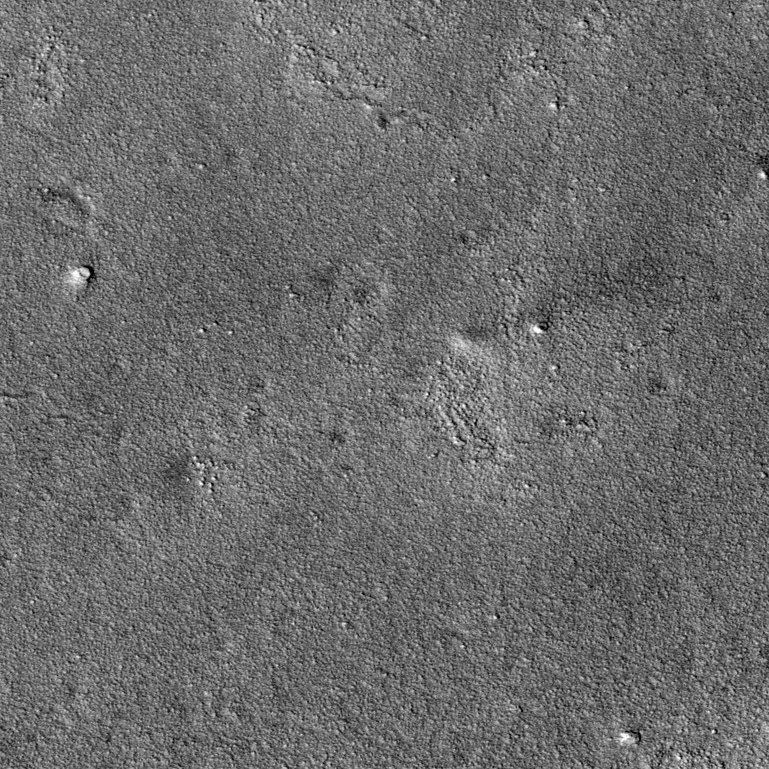dust_devil: (446, 322, 498, 355)
